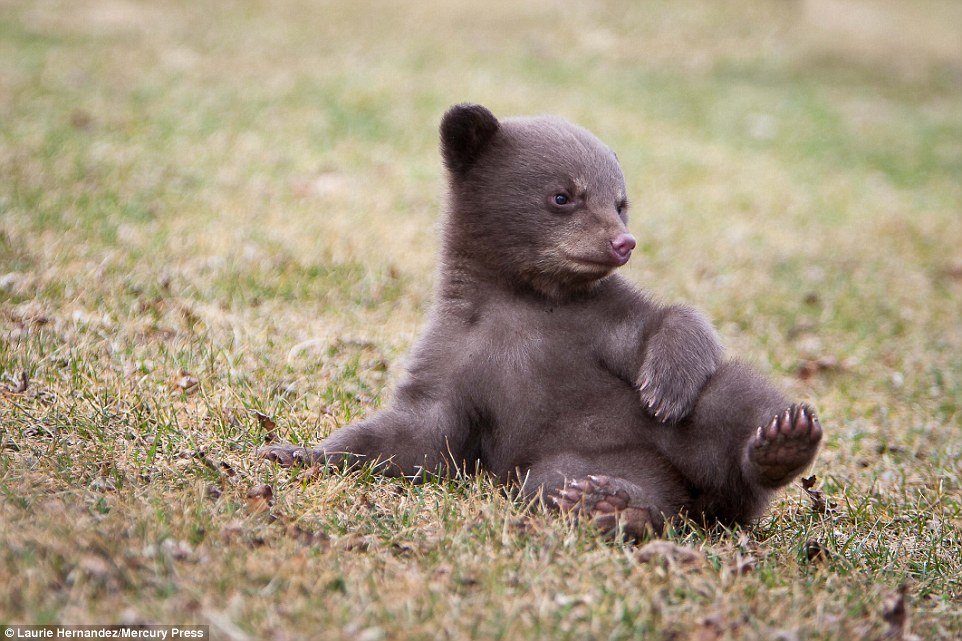bear: (272, 104, 822, 546)
